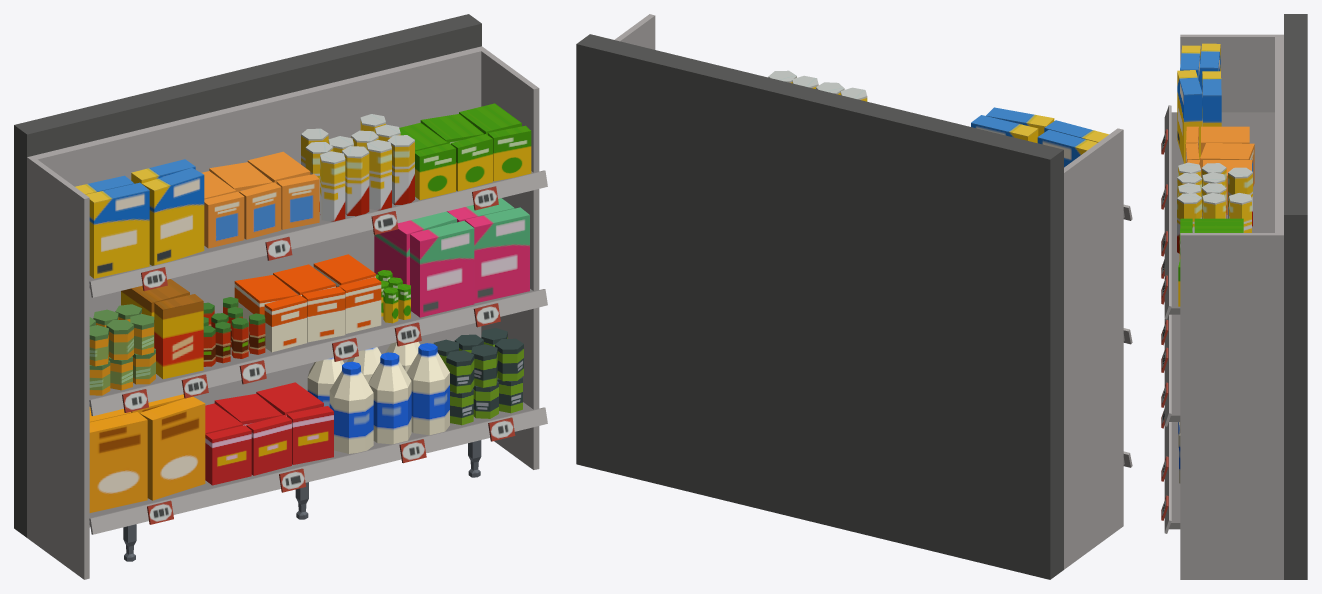
The model's file is SM_Prop_Market_Aisle_Preset_03.obj.
The picture shows the model from 3 angles, left to right: view 1: azimuth 30°, elevation 25°; view 2: azimuth 150°, elevation 25°; view 3: azimuth 270°, elevation 25°; orthographic projection. The views are drawn at different scales.
Parts seen in each view (by area): view 1: SM_Prop_Market_Aisle_Preset_03_0; view 2: SM_Prop_Market_Aisle_Preset_03_0; view 3: SM_Prop_Market_Aisle_Preset_03_0.
Part boxes in pixels (bbox=[...]): SM_Prop_Market_Aisle_Preset_03_0: bbox=[14, 14, 547, 579]; SM_Prop_Market_Aisle_Preset_03_0: bbox=[576, 14, 1132, 579]; SM_Prop_Market_Aisle_Preset_03_0: bbox=[1161, 14, 1307, 579].
Bounding box in the file's own units: 2.5 × 2.12 × 0.7691.
1 material, 1 textured.
